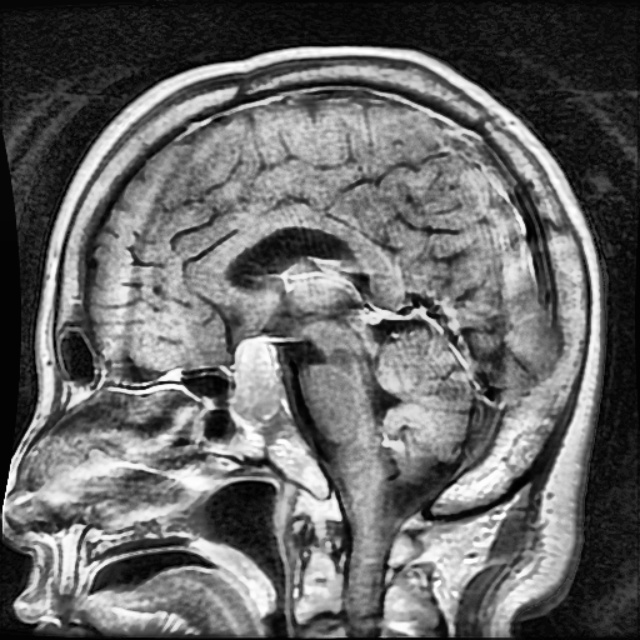Pituitary: (232, 337, 282, 422)
